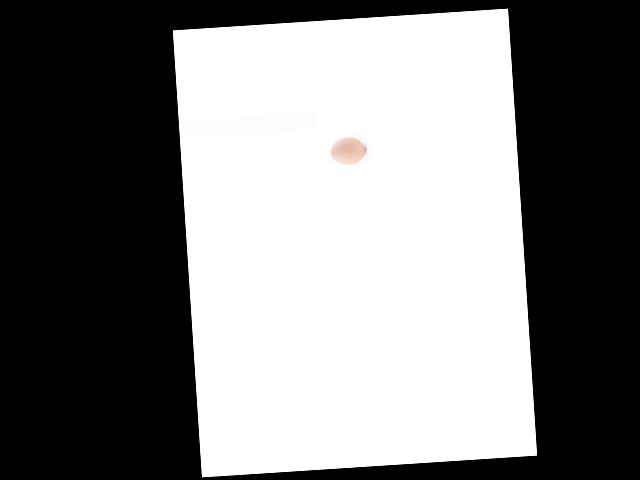egg: (329, 135, 366, 165)
